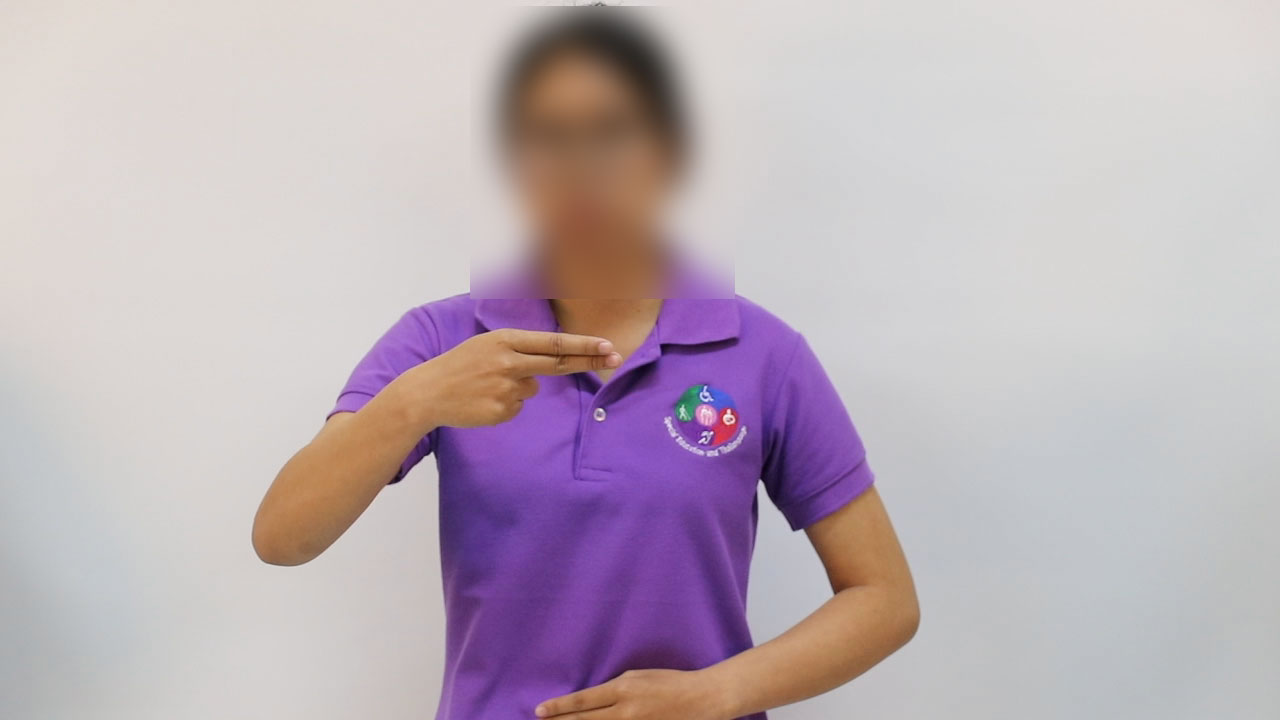hor: (376, 308, 634, 449)
